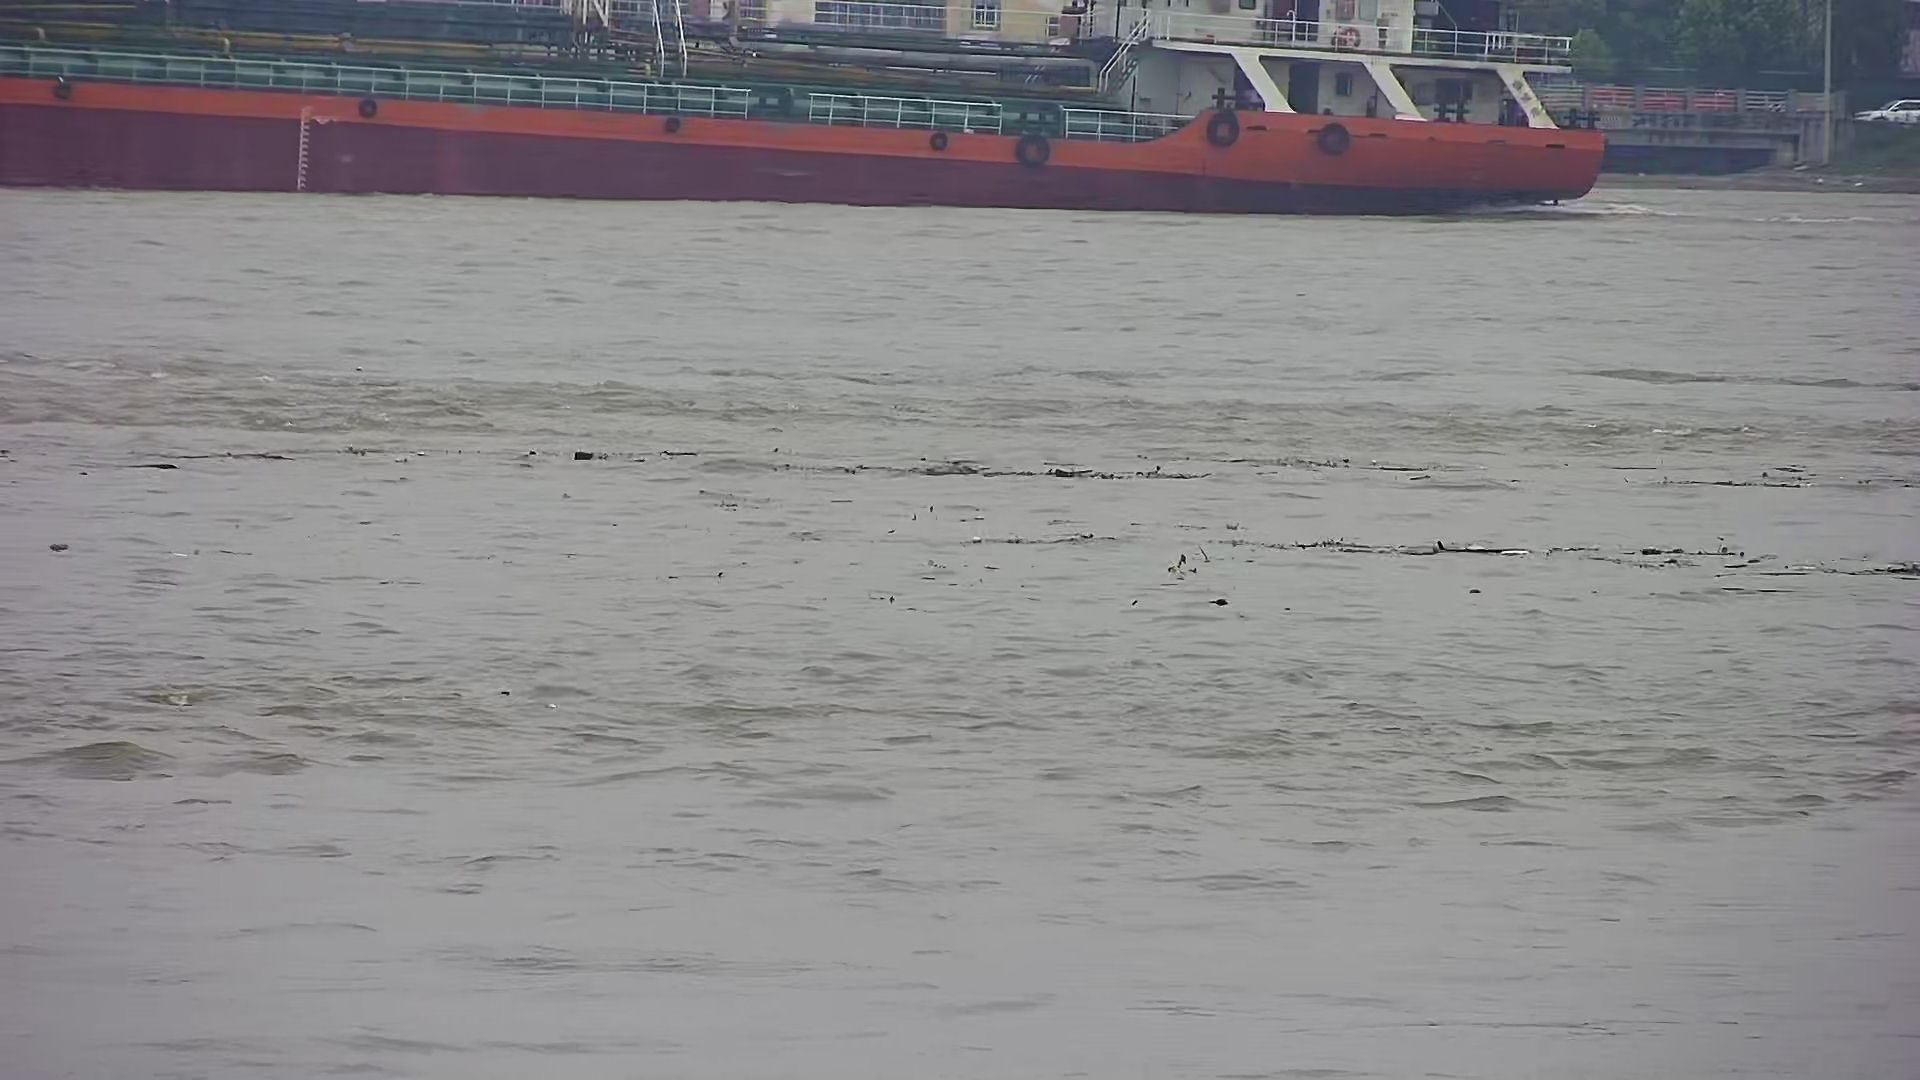ship: (7, 7, 1615, 214)
